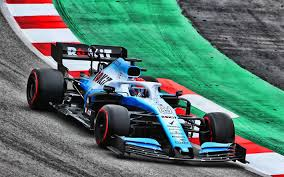FormulaOneCar: (23, 35, 251, 170)
